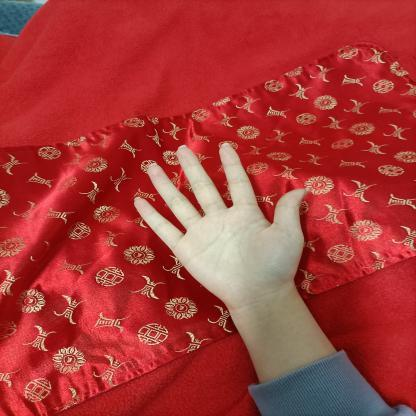bare_hand: (130, 134, 314, 306)
